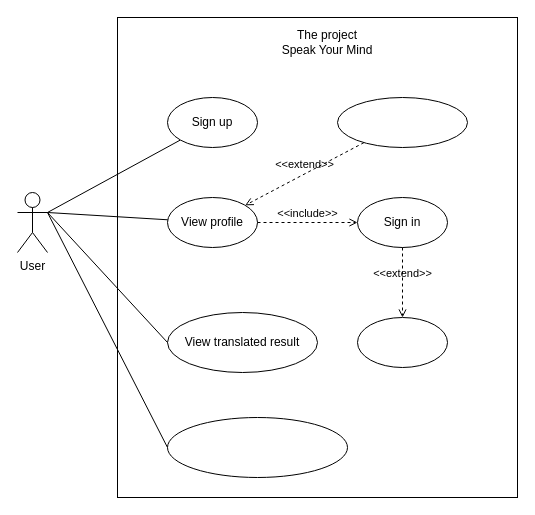
The diagram is 535 pixels wide and 515 high, and some of its shapes have lost their labels. Each missing label, with the box of its shape:
Look up word in dictionary: (166, 416, 348, 478)
Sign out: (356, 316, 448, 368)
Update information: (336, 96, 468, 148)
